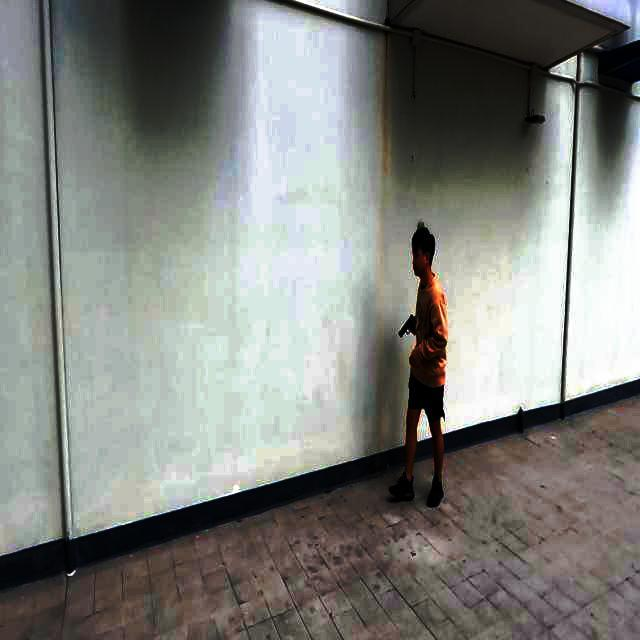Gun: (390, 308, 422, 358)
